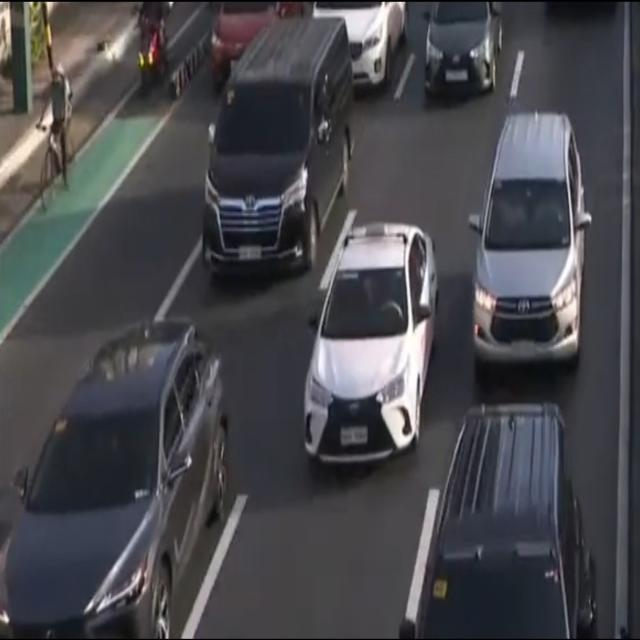Bicycle: (34, 62, 74, 212)
Motorcycle: (125, 0, 178, 96)
SUV: (400, 403, 602, 640), (466, 112, 593, 372)
Sedan: (0, 320, 230, 640), (300, 225, 437, 474), (309, 0, 411, 92), (200, 0, 301, 84), (426, 0, 502, 95)
Van: (205, 18, 353, 277)
